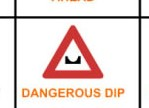Traffic signal: (40, 24, 105, 80)
